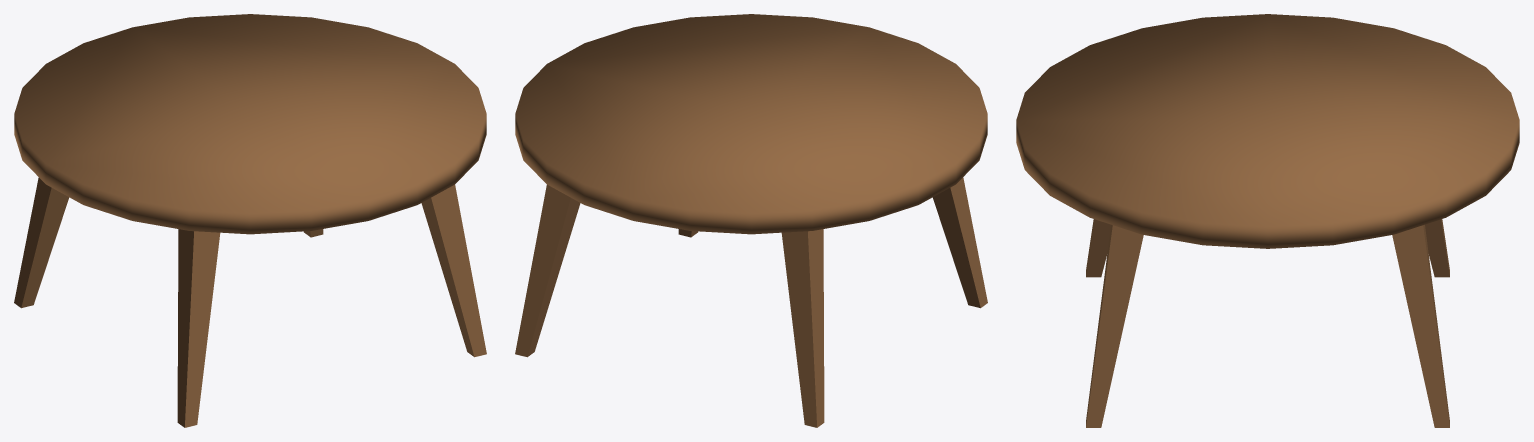
File: round_table.glb
3 views of the same model, side by side, from view 1: azimuth 30°, elevation 25°; view 2: azimuth 150°, elevation 25°; view 3: azimuth 270°, elevation 25° (orthographic). The views are drawn at different scales.
Visible parts, largest first — view 1: Round Table; view 2: Round Table; view 3: Round Table.
Boxes of the visible parts, left/top/right/bottom form: Round Table: left=14, top=14, right=486, bottom=427; Round Table: left=515, top=14, right=987, bottom=427; Round Table: left=1016, top=14, right=1519, bottom=427.
Bounding box in the file's own units: 1.29 × 0.6466 × 1.29.
Materials: 1 (1 with a texture image).
